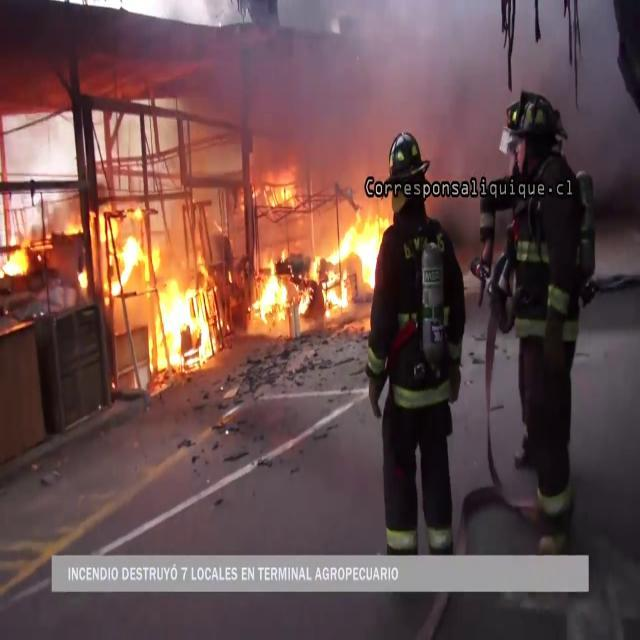Fire: (243, 184, 387, 328), (147, 261, 220, 375), (96, 203, 146, 297), (0, 234, 33, 283)
Smoke: (226, 3, 542, 178)
